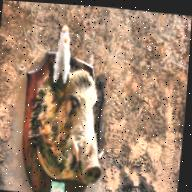boar: (8, 22, 126, 189)
